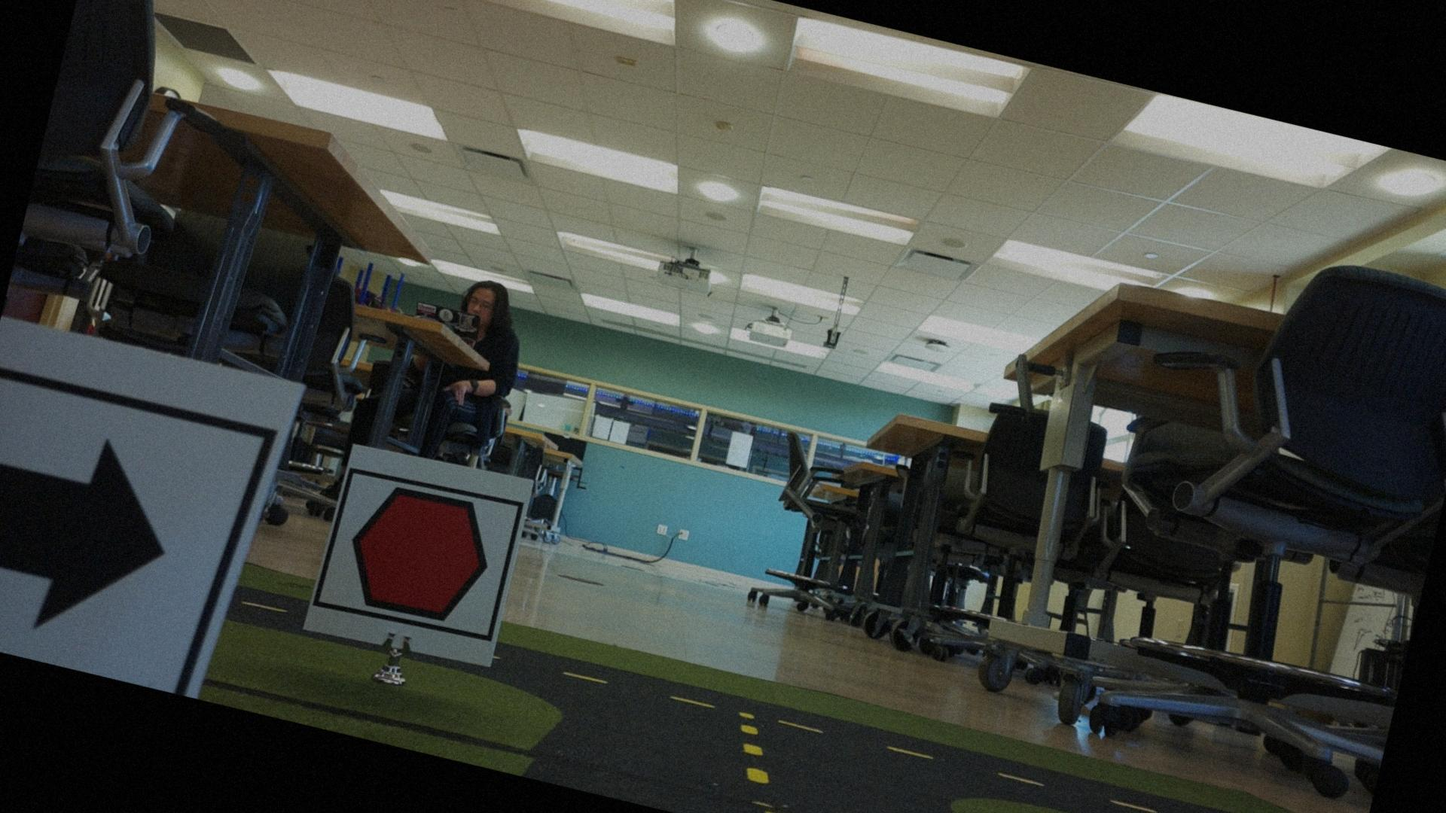stop: (317, 470, 521, 645)
turnright: (0, 373, 242, 693)
yellowline: (728, 719, 779, 787)
